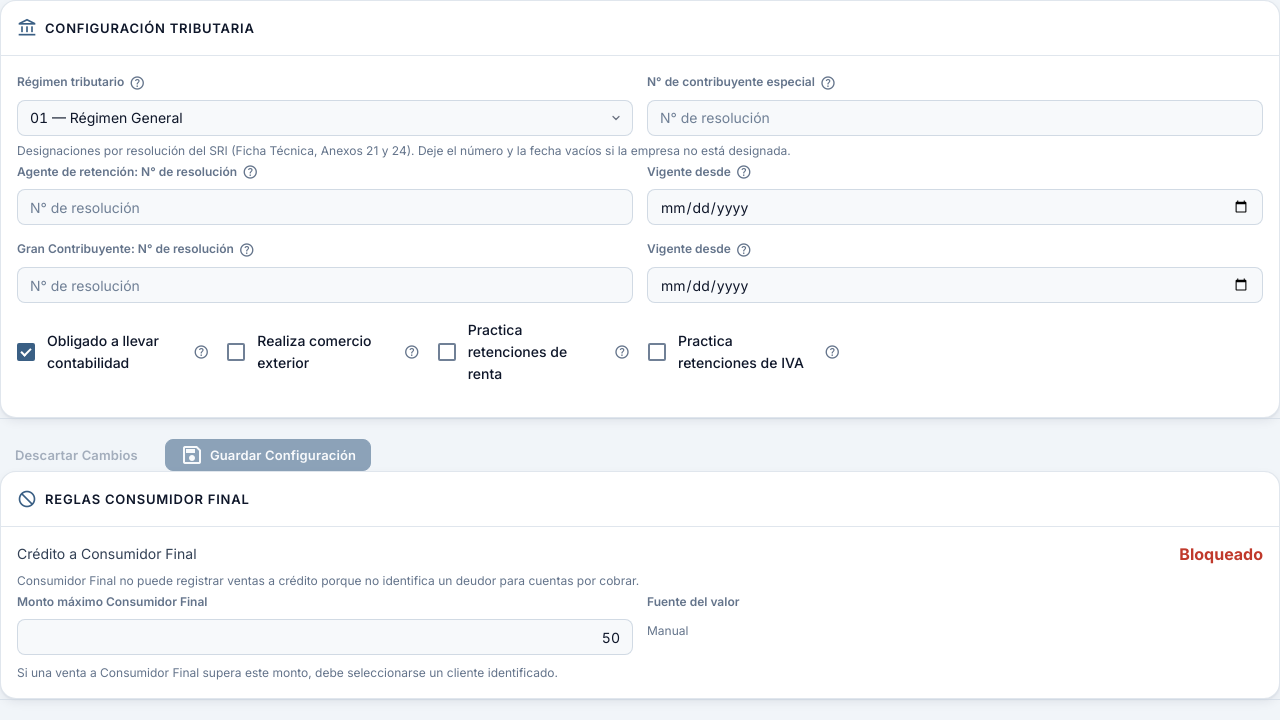
Test: FiscalSettingsSection — designaciones del emisor › exige la vigencia cuando se ingresa un número de resolución
Expected: the text "Manual" is shown, top-left (647, 623), bottom-right (688, 638)
Type "6498" into the field with placeholder "N° de resolución" below "Agente de retención: N° de resolución".
click(325, 207); type("6498")  # box top-left (17, 189), bottom-right (633, 225)
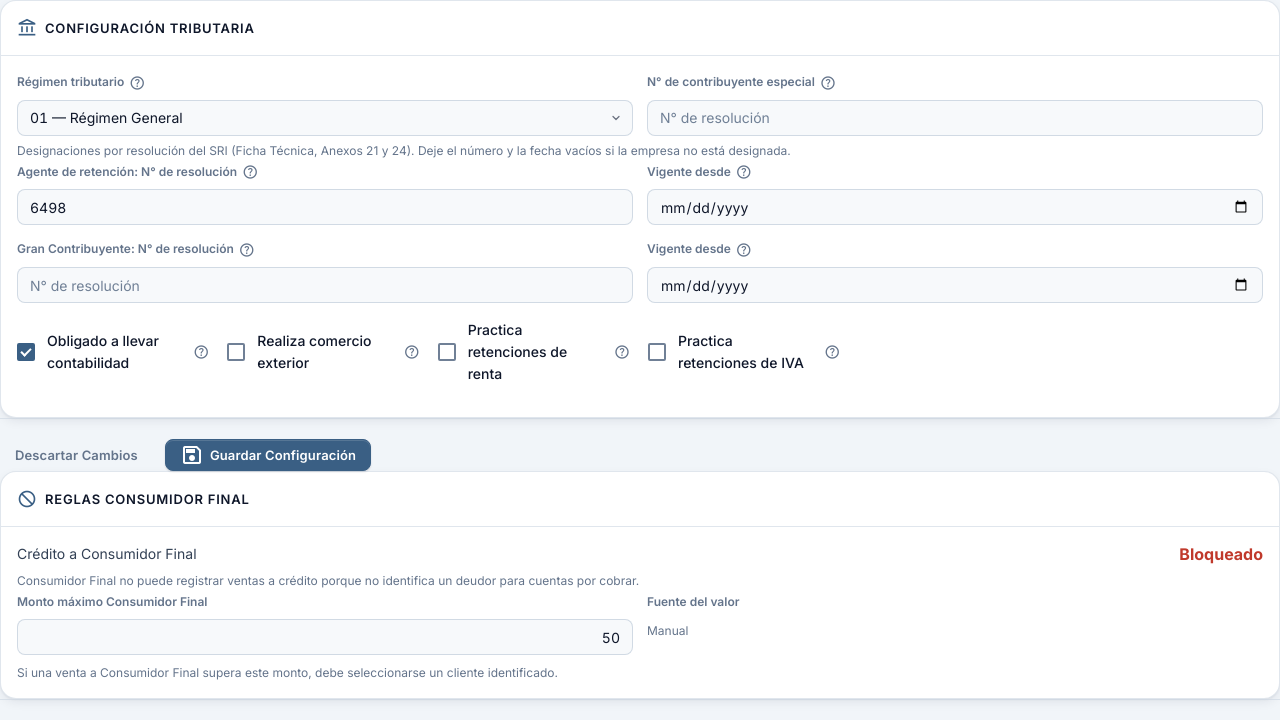
Click the button "Guardar Configuración".
click(268, 455)  # box top-left (165, 439), bottom-right (371, 471)
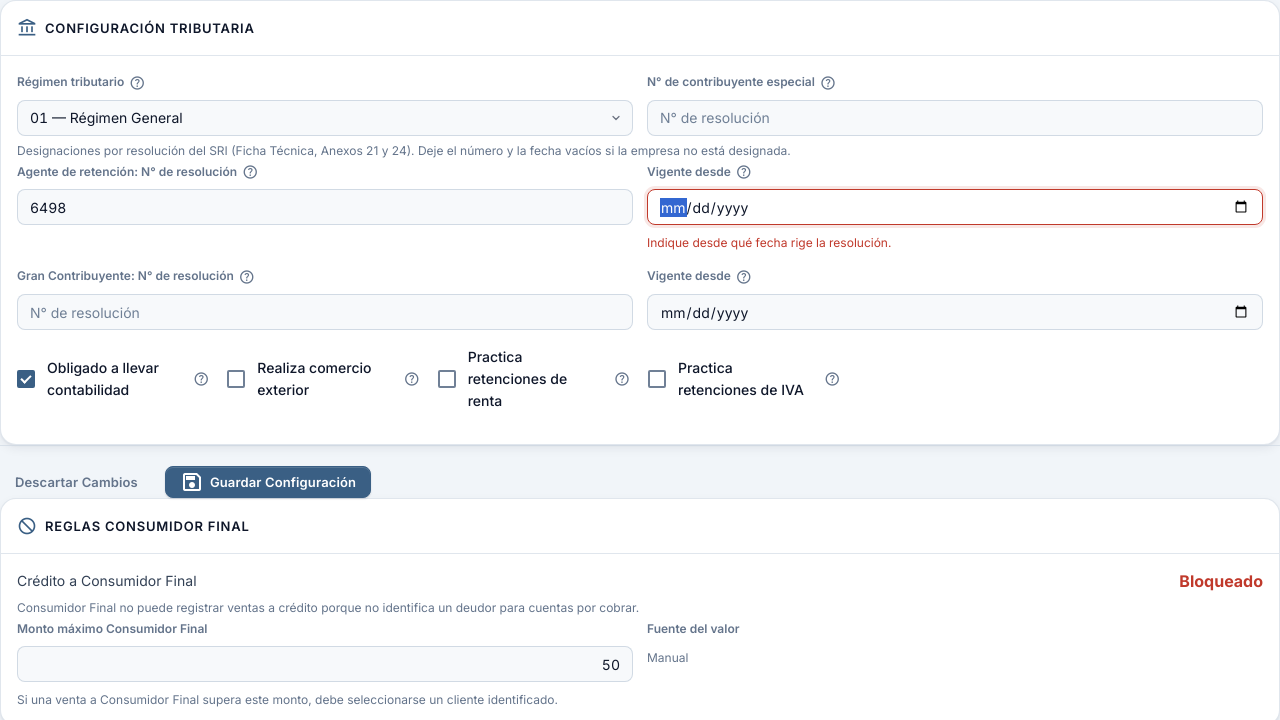
Result: the text "Indique desde qué fecha rige la resolución." is shown at top-left (647, 235), bottom-right (891, 250)
